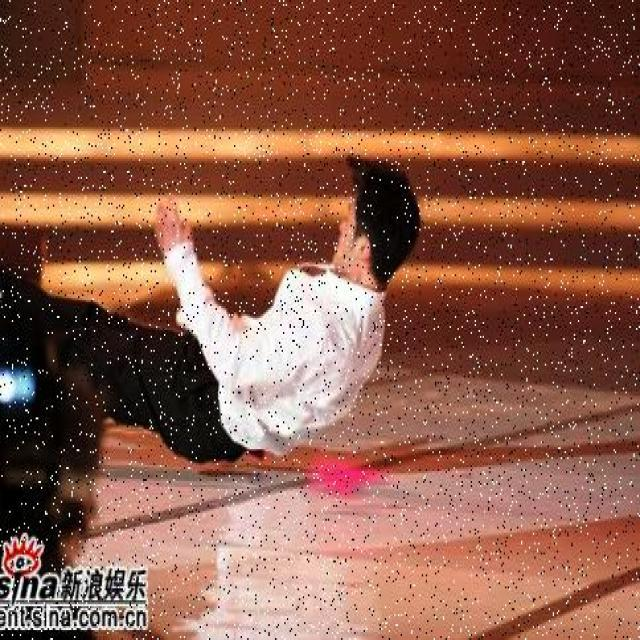fall: (13, 171, 410, 457)
